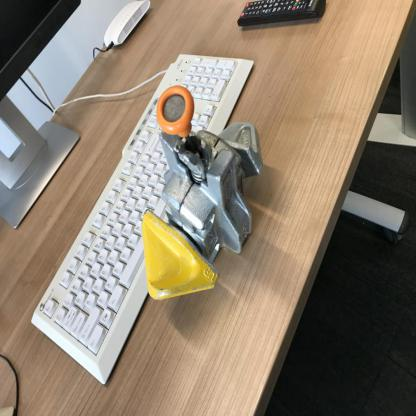Twistlock: (141, 77, 267, 309)
